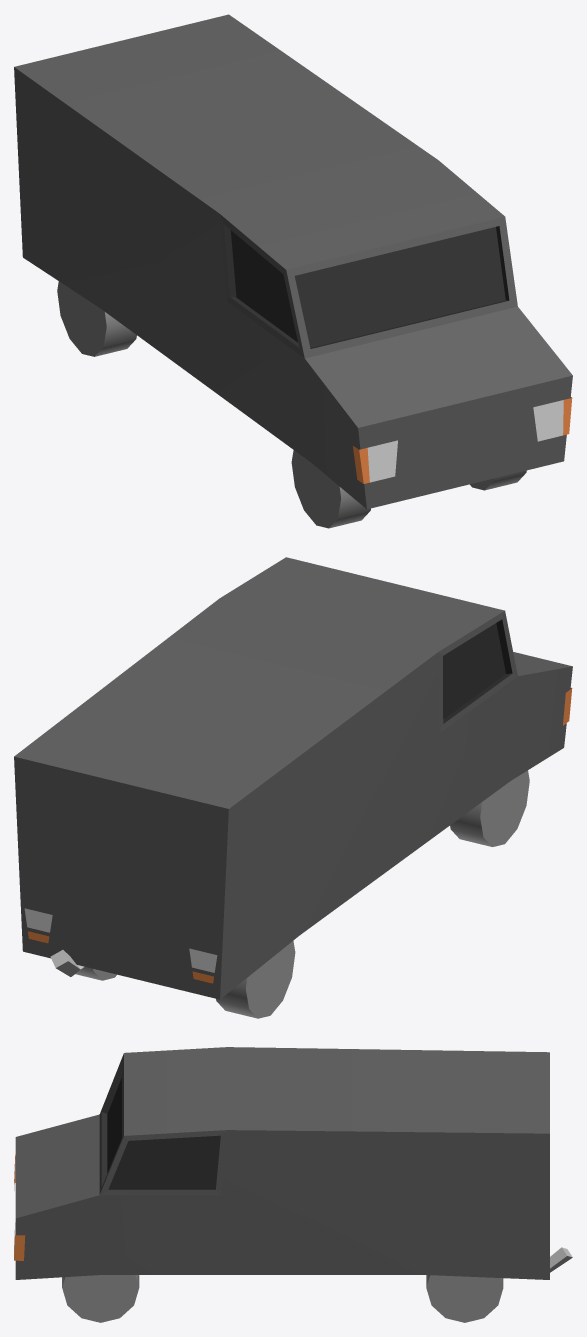
Rendered from van_09.fbx.
3 renders of one model, top to bottom at view 1: azimuth 30°, elevation 25°; view 2: azimuth 150°, elevation 25°; view 3: azimuth 270°, elevation 25°, orthographic. The views are drawn at different scales.
Parts seen in each view (by area): view 1: van_09; view 2: van_09; view 3: van_09.
Boxes of the visible parts, x1,y1,x2,y2 form: van_09: (14, 14, 572, 528); van_09: (14, 557, 572, 1018); van_09: (14, 1047, 572, 1322).
Size of the model in its own units: 1.61 by 1.8 by 4.59.
